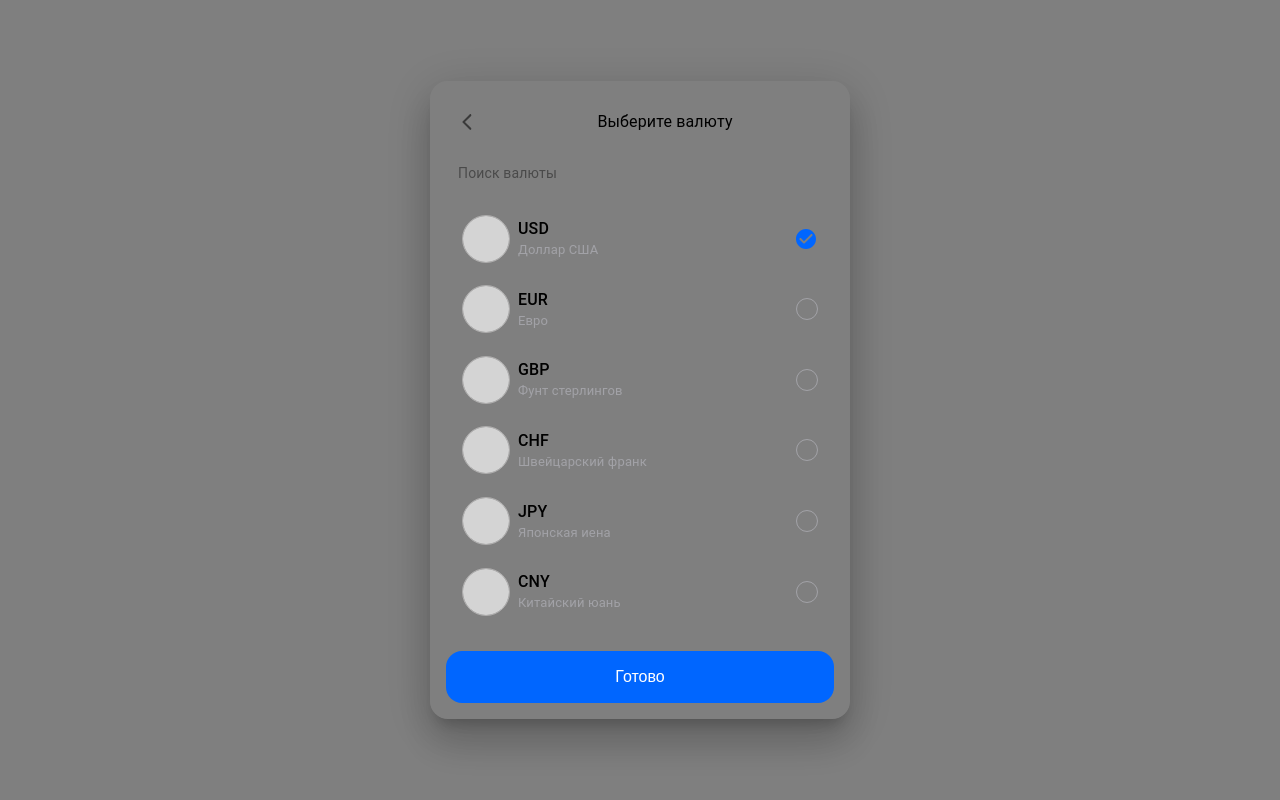
Test: CurrencySelectModal › поиск › фильтрует по названию валюты и не зависит от регистра
Type "фу" into the field with placeholder "Поиск валюты" at (640, 173), box [446,151,834,195]
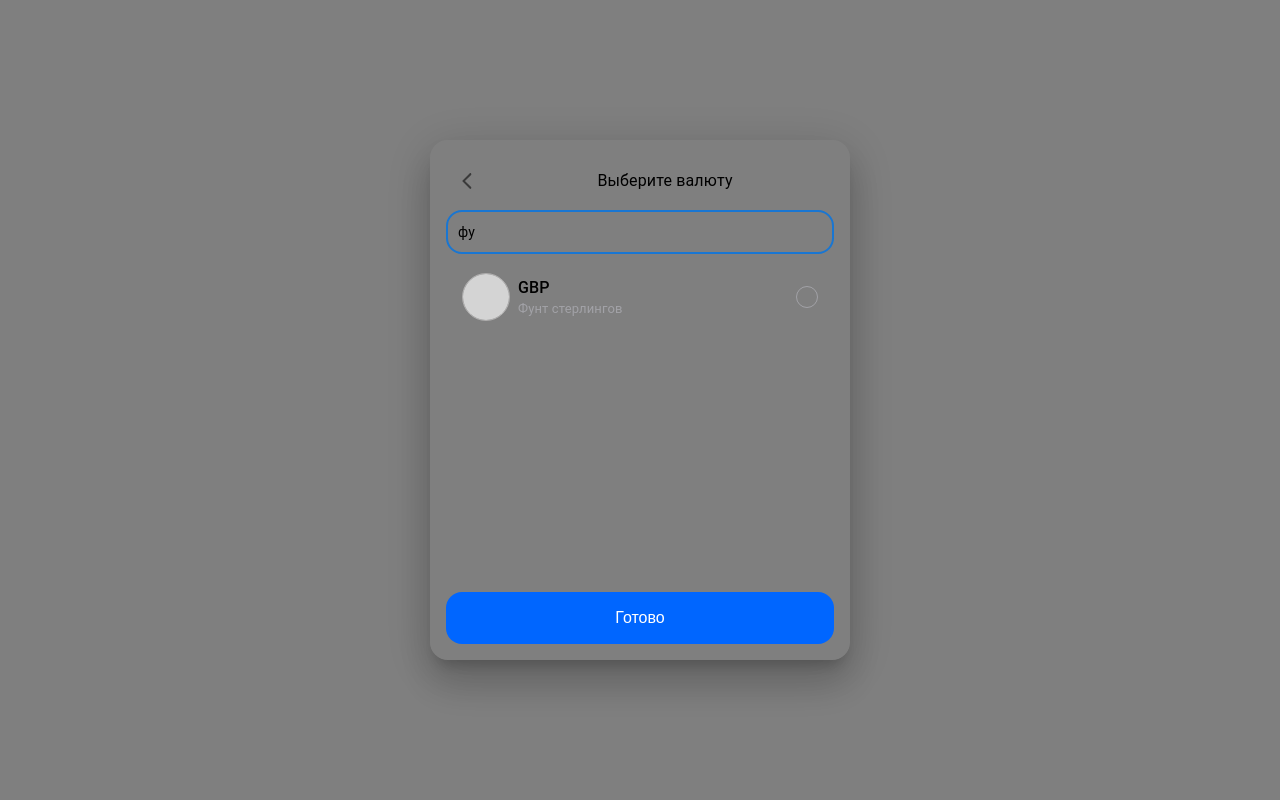
Result: the button "USD" is gone
Result: the button "EUR" is gone
Result: the button "CHF" is gone
